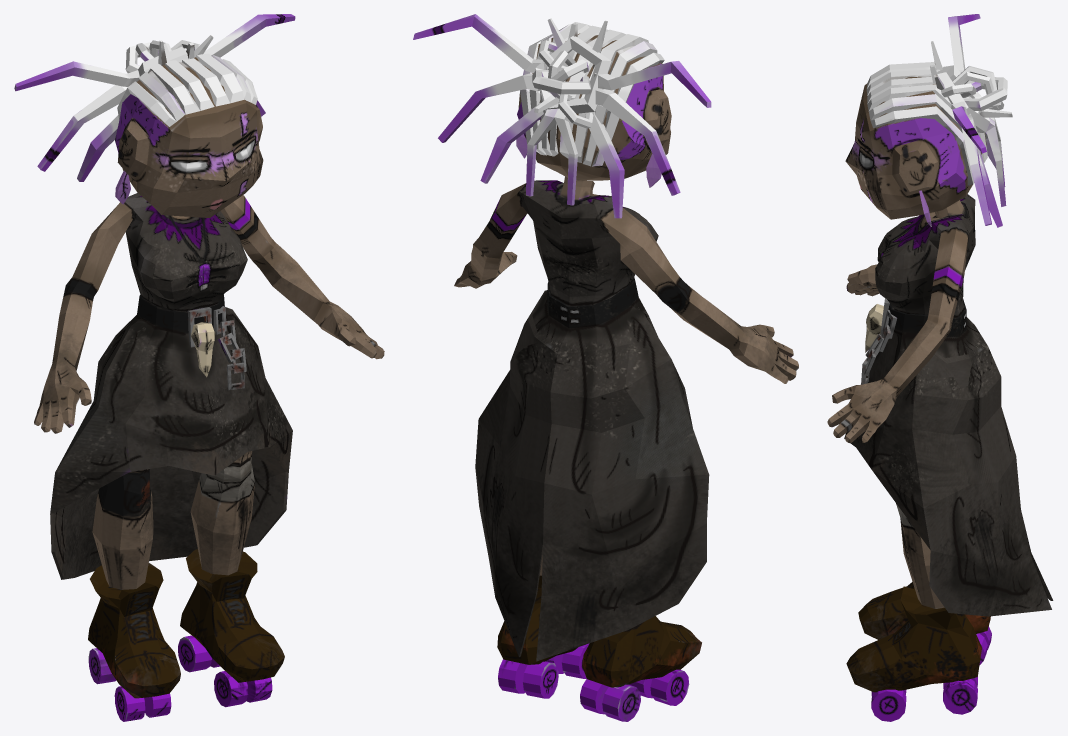
File: bruja_000231.obj
3 views of the same model, side by side, from view 1: azimuth 30°, elevation 25°; view 2: azimuth 150°, elevation 25°; view 3: azimuth 270°, elevation 25° (orthographic). The views are drawn at different scales.
Visible parts, largest first — view 1: Bruja_Plane.001; view 2: Bruja_Plane.001; view 3: Bruja_Plane.001.
Boxes of the visible parts, left/top/right/bottom form: Bruja_Plane.001: left=14, top=14, right=384, bottom=721; Bruja_Plane.001: left=413, top=14, right=798, bottom=721; Bruja_Plane.001: left=827, top=14, right=1053, bottom=721.
Bounding box in the file's own units: 8.76 × 16.66 × 5.31.
